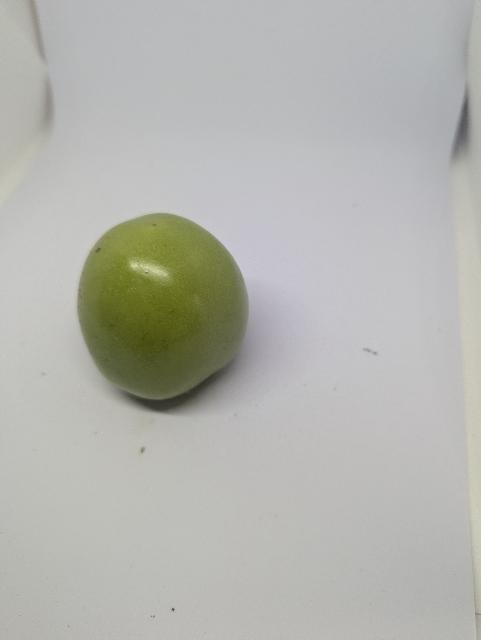green: (67, 205, 257, 409)
